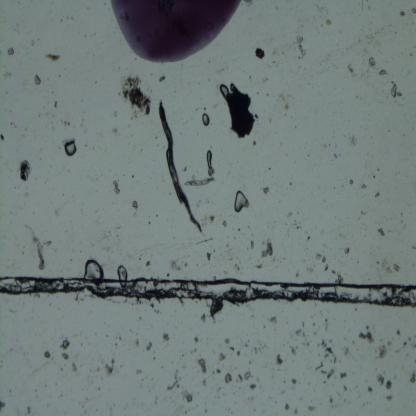Air bubble: (82, 258, 104, 283), (233, 190, 248, 213), (117, 265, 129, 289), (65, 141, 77, 156), (206, 149, 213, 169), (219, 83, 228, 98), (202, 114, 210, 126)
Background material: (119, 77, 151, 118), (166, 253, 191, 277), (18, 158, 32, 181), (296, 33, 308, 59), (277, 92, 291, 114), (315, 252, 330, 272), (378, 258, 398, 272), (390, 80, 404, 100), (260, 238, 273, 258), (288, 211, 301, 230), (344, 132, 359, 148), (331, 271, 344, 287), (397, 210, 407, 230), (44, 52, 62, 63), (366, 31, 380, 44), (112, 179, 122, 196), (104, 125, 120, 135), (196, 237, 214, 245), (347, 64, 356, 78), (367, 56, 377, 68), (255, 47, 265, 59), (231, 262, 241, 274), (208, 212, 216, 226), (6, 120, 17, 130), (377, 226, 386, 238), (322, 15, 331, 27), (33, 74, 42, 85), (247, 238, 254, 252), (250, 135, 258, 147), (64, 13, 74, 22), (262, 184, 271, 194), (6, 46, 15, 56), (4, 67, 12, 78), (343, 244, 350, 256), (256, 263, 268, 270), (356, 210, 366, 218), (236, 224, 243, 235), (132, 198, 138, 210), (361, 182, 369, 191), (63, 118, 72, 126), (45, 238, 53, 247), (53, 99, 60, 109), (378, 68, 388, 75), (262, 74, 270, 82), (144, 258, 152, 266), (159, 74, 166, 82), (374, 191, 381, 199), (207, 252, 212, 262), (112, 110, 119, 117), (410, 6, 416, 14), (304, 236, 312, 242), (272, 60, 278, 68), (254, 112, 260, 120), (411, 242, 416, 251), (30, 37, 35, 46), (375, 165, 381, 172), (334, 152, 340, 159), (0, 134, 5, 142), (221, 220, 226, 228), (55, 210, 59, 218), (225, 243, 229, 251), (371, 173, 376, 179), (401, 12, 406, 18), (231, 234, 236, 240), (350, 179, 354, 185), (295, 270, 299, 276), (130, 174, 134, 179), (58, 74, 63, 78), (212, 248, 216, 253), (288, 181, 292, 186), (147, 221, 152, 225), (266, 92, 269, 98), (67, 168, 70, 174), (60, 17, 64, 21), (84, 34, 87, 38), (204, 107, 206, 111), (156, 214, 158, 217)
Cellulose filter fibre: (157, 104, 202, 235), (34, 238, 46, 269), (184, 178, 216, 188)
Diatom: (208, 168, 215, 177)
Edge of slide: (0, 271, 416, 415)
Fragment: (225, 89, 254, 139)
Pen: (108, 0, 242, 65)
